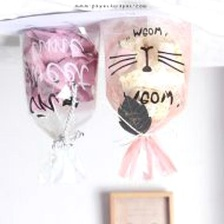snack: (90, 10, 196, 188), (10, 17, 106, 192)
